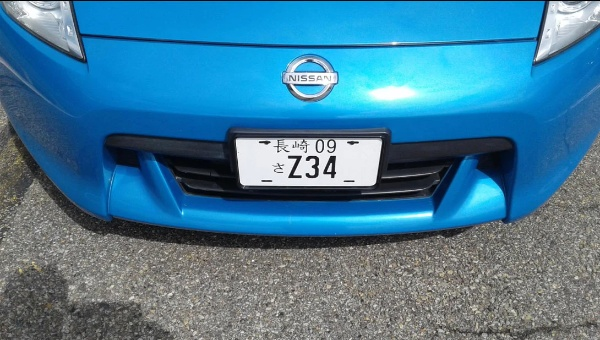licence: (230, 132, 387, 190)
